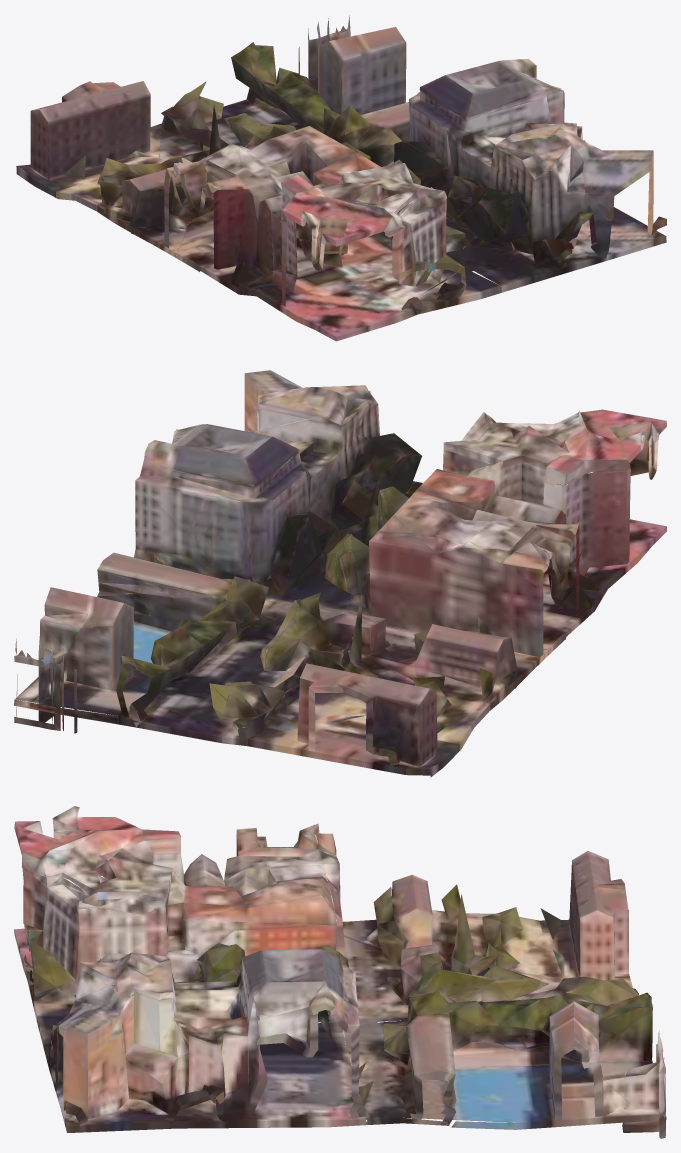
3 views of the same model, one above another, from view 1: azimuth 30°, elevation 25°; view 2: azimuth 150°, elevation 25°; view 3: azimuth 270°, elevation 25° (orthographic). The views are drawn at different scales.
Visible parts, largest first — view 1: Mesh_0; view 2: Mesh_0; view 3: Mesh_0.
Boxes of the visible parts, x1,y1,x2,y2 form: Mesh_0: (16, 15, 666, 341); Mesh_0: (14, 370, 666, 777); Mesh_0: (14, 806, 666, 1138).
Size of the model in its own units: 134 by 45.99 by 165.
1 material, 1 textured.
